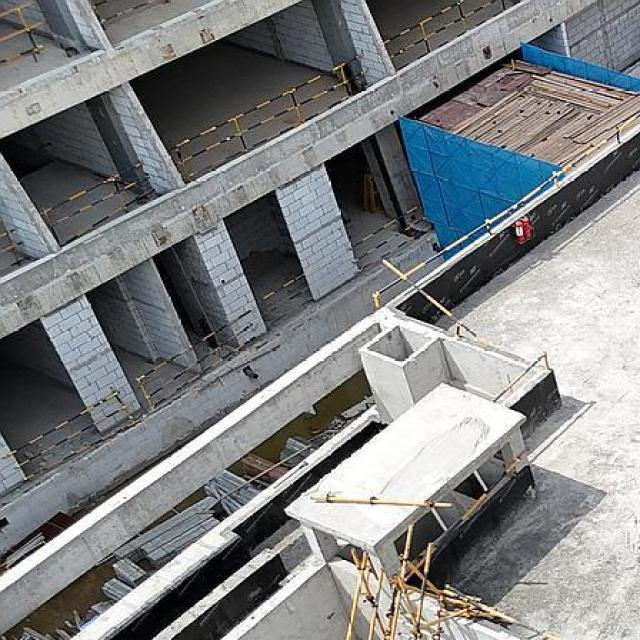edge_guardrail: (371, 109, 640, 338), (164, 54, 374, 184), (407, 454, 523, 566), (0, 387, 136, 482), (135, 308, 256, 413), (39, 162, 154, 248), (381, 0, 506, 60), (439, 588, 569, 640), (353, 205, 431, 272), (257, 273, 314, 330), (491, 349, 549, 404), (0, 0, 47, 67), (90, 0, 156, 31), (0, 228, 33, 273)
